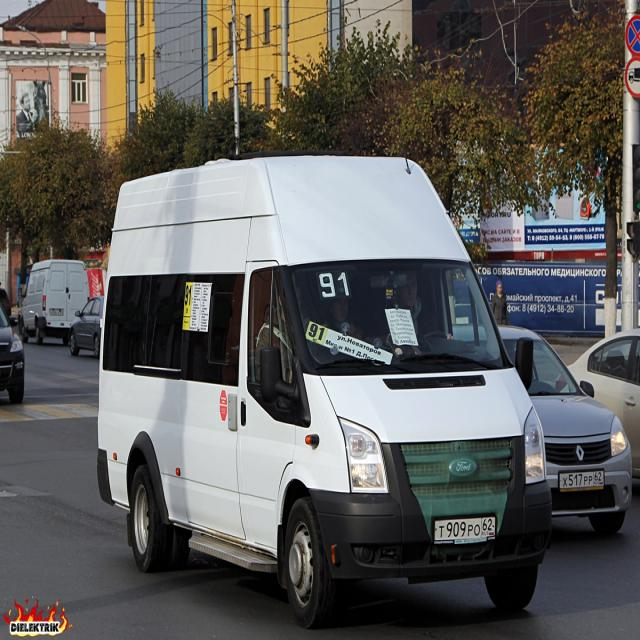number-of-bus: (319, 270, 351, 301), (308, 321, 327, 343), (185, 285, 194, 308)
